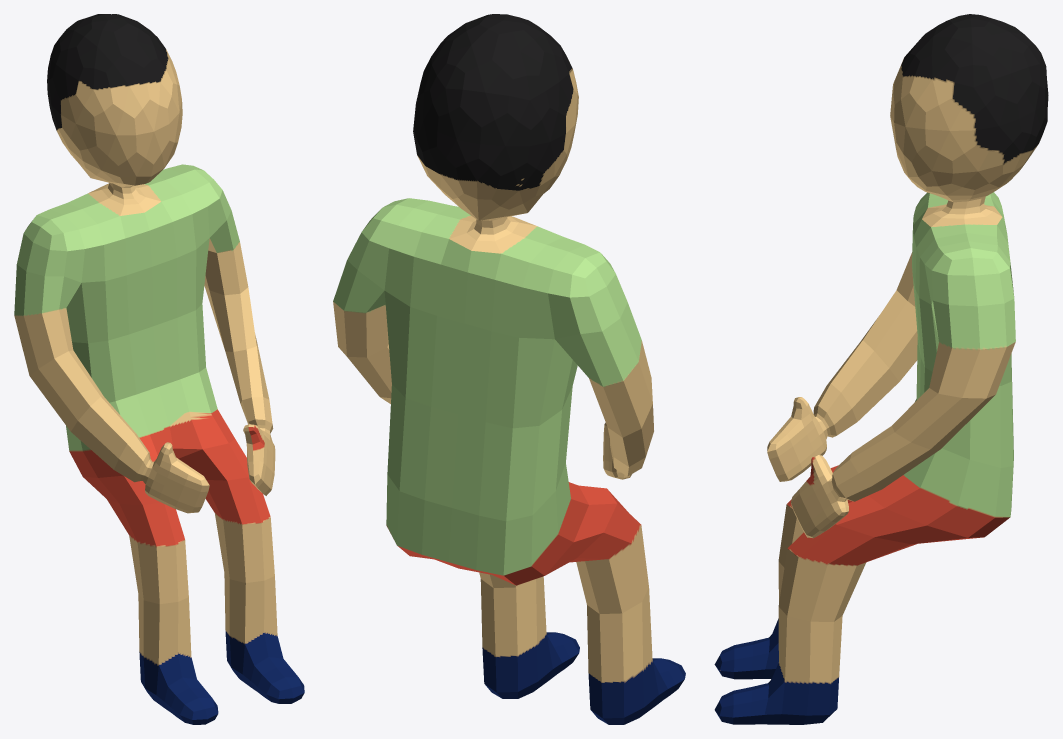
File: mrBiggs.gltf
3 renders of one model, left to right at view 1: azimuth 30°, elevation 25°; view 2: azimuth 150°, elevation 25°; view 3: azimuth 270°, elevation 25°, orthographic. The views are drawn at different scales.
Parts seen in each view (by area): view 1: mrbiggs; view 2: mrbiggs; view 3: mrbiggs.
Part boxes in pixels (x1,y1,x2,y2): mrbiggs: [14, 14, 304, 724]; mrbiggs: [333, 14, 685, 724]; mrbiggs: [714, 14, 1048, 724].
Size of the model in its own units: 2.45 by 6.35 by 2.88.
Materials: 1 (1 with a texture image).
